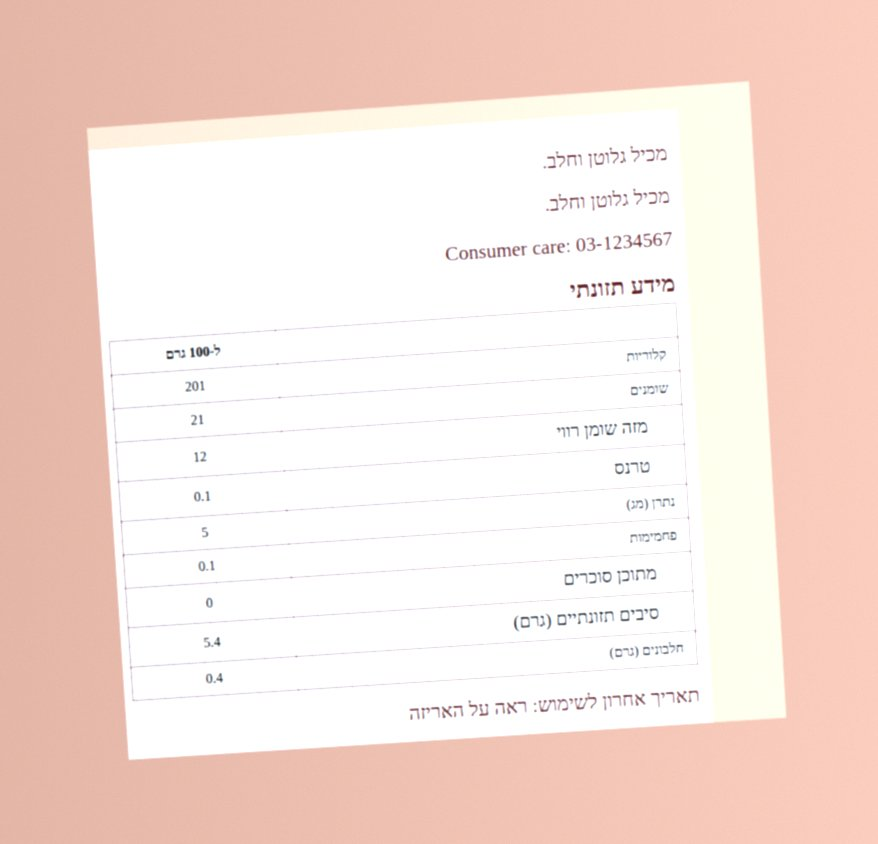carbs: (196, 556, 218, 576)
energy: (183, 376, 208, 396)
fat: (188, 410, 207, 429)
protein: (203, 668, 225, 688)
